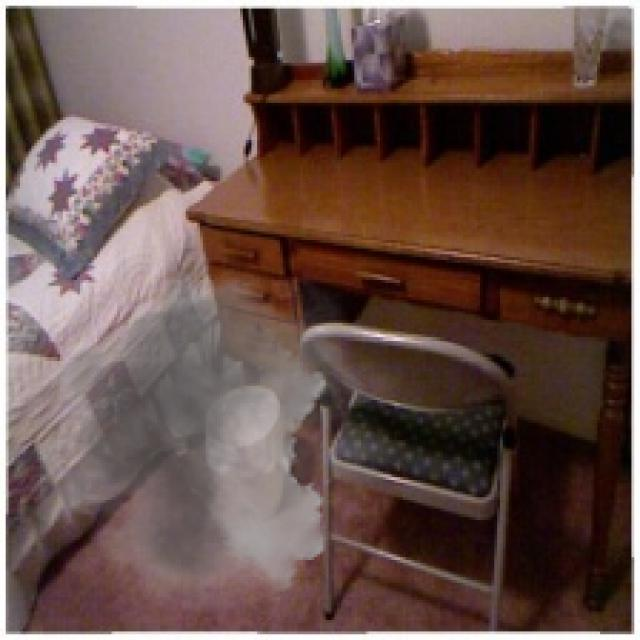smoke: (14, 257, 406, 614)
